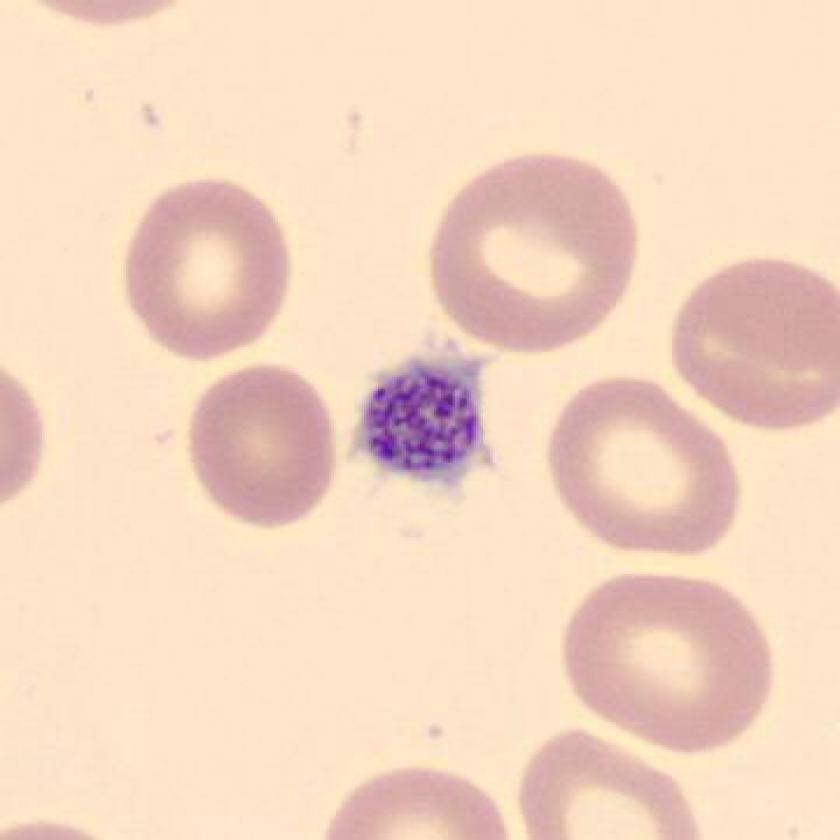platelets: (346, 341, 505, 501)
